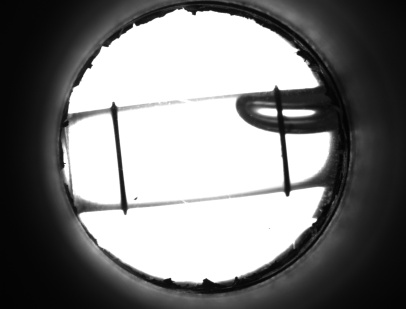line: (108, 122, 131, 196), (275, 139, 295, 179)
